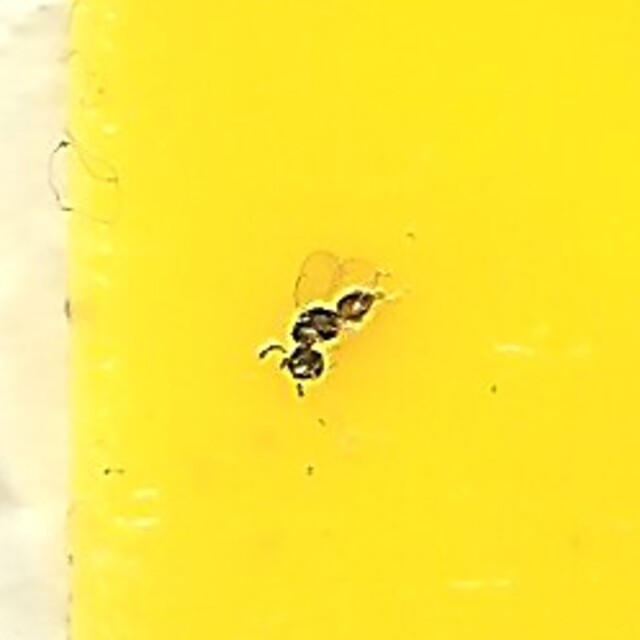Hymenoptera: (257, 254, 383, 386)
